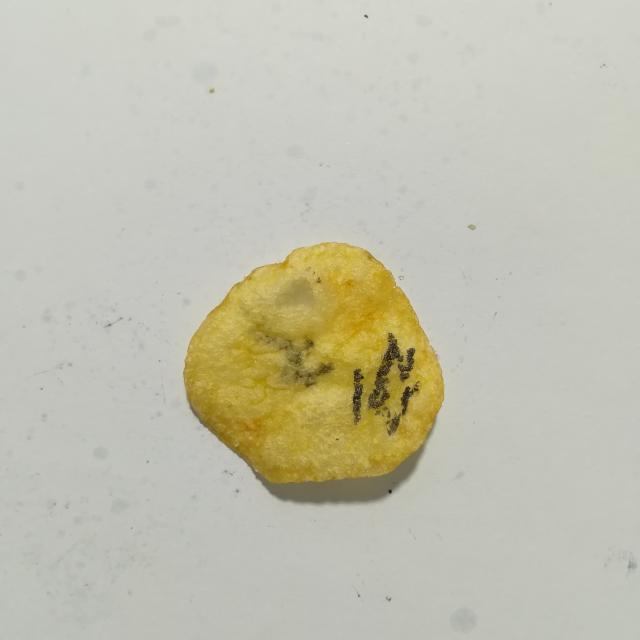chip: (184, 243, 444, 483)
damaged: (368, 333, 418, 435), (352, 369, 363, 424)
semi-damaged: (260, 335, 334, 386)
